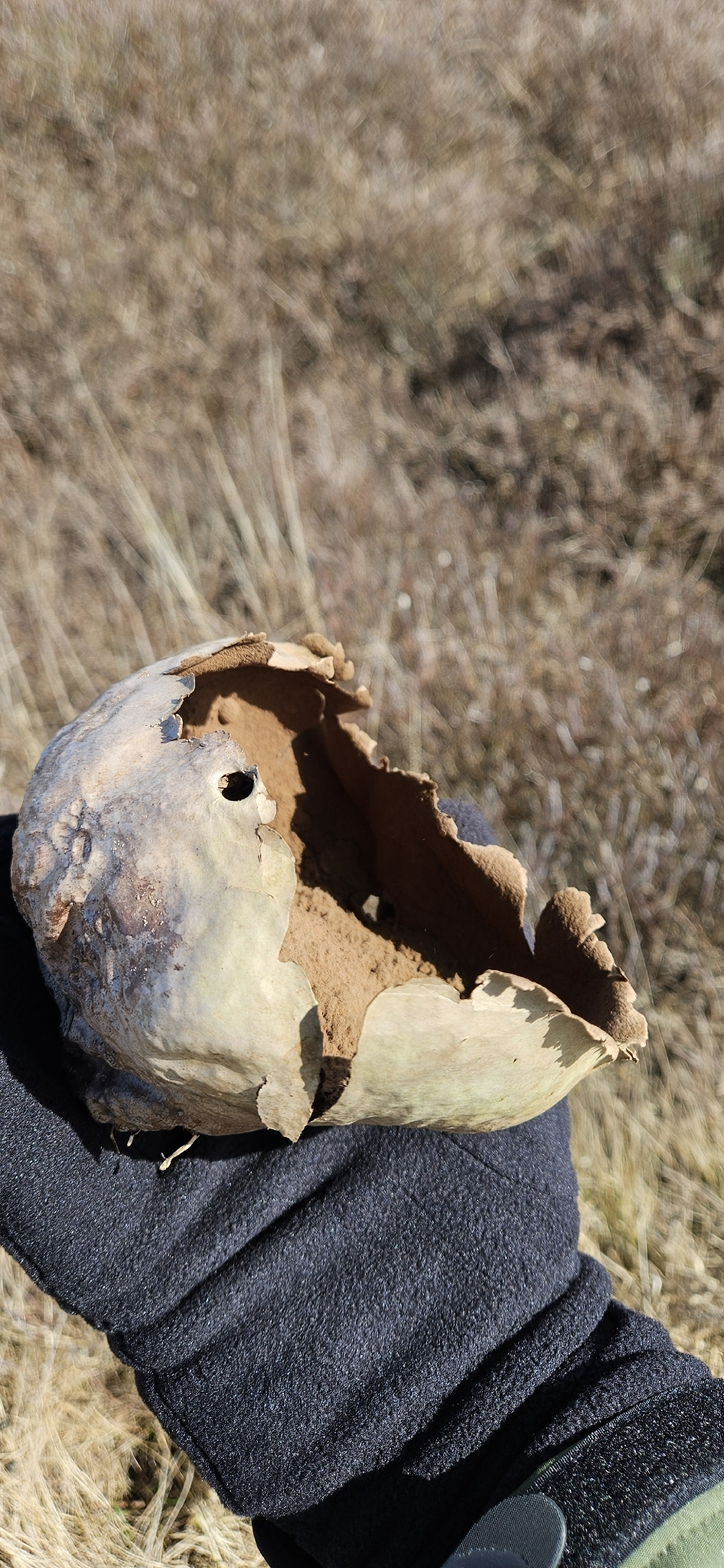Cap: (13, 634, 644, 1141)
